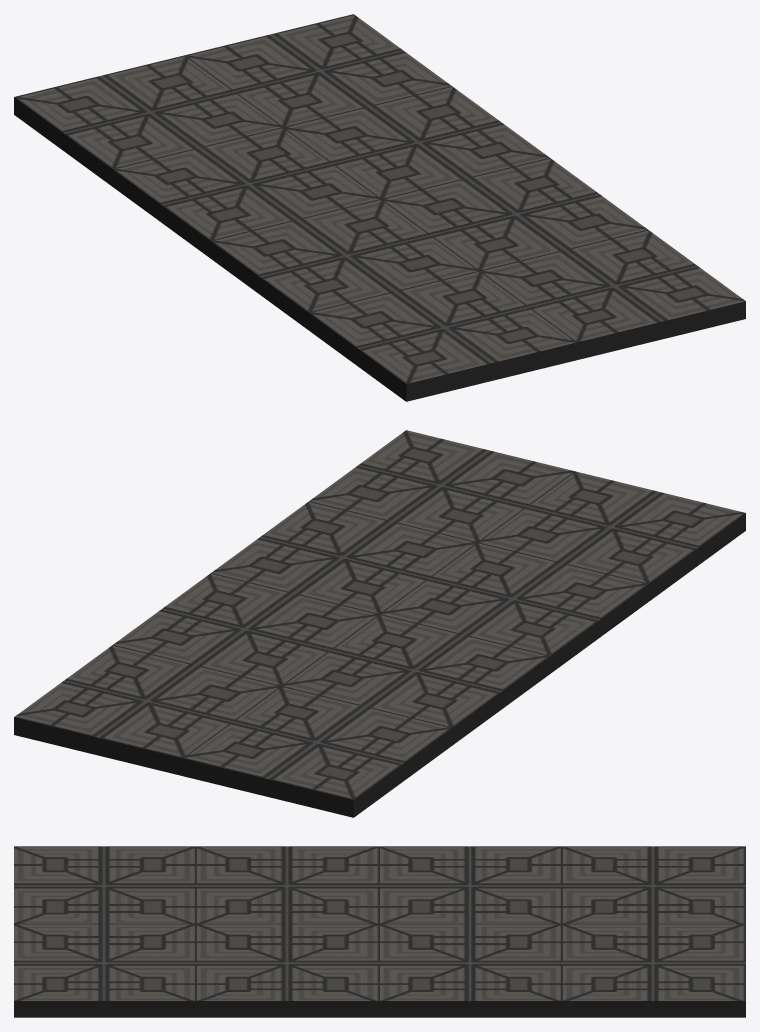
Rendered from Floor.fbx.
The picture shows the model from 3 angles, top to bottom: view 1: azimuth 30°, elevation 25°; view 2: azimuth 150°, elevation 25°; view 3: azimuth 270°, elevation 25°; orthographic projection. The views are drawn at different scales.
Parts seen in each view (by area): view 1: Cube.011; view 2: Cube.011; view 3: Cube.011.
Part boxes in pixels (<box>): Cube.011: <box>14,14,745,401</box>; Cube.011: <box>14,430,745,817</box>; Cube.011: <box>14,846,745,1017</box>.
Size of the model in its own units: 4 by 0.2 by 8.
